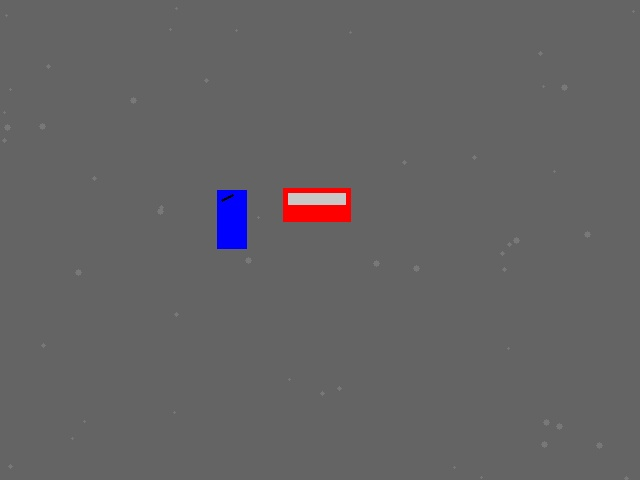car: (283, 188, 350, 221)
motorcycle: (217, 190, 246, 248)
